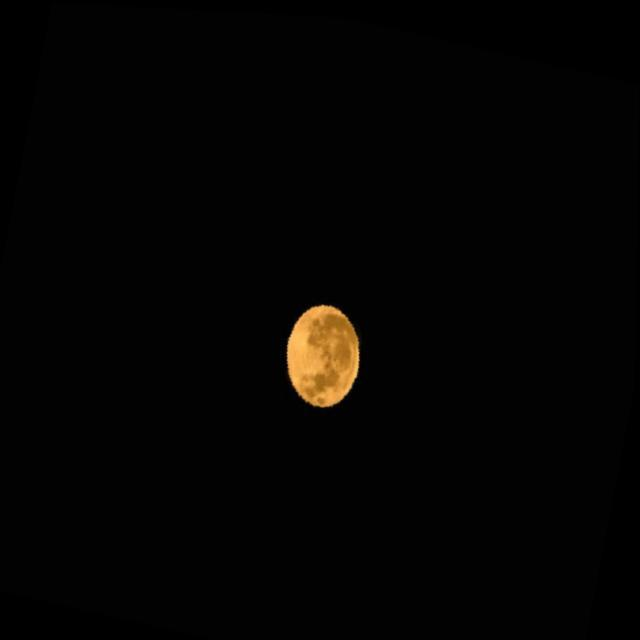moon: (262, 267, 386, 426)
